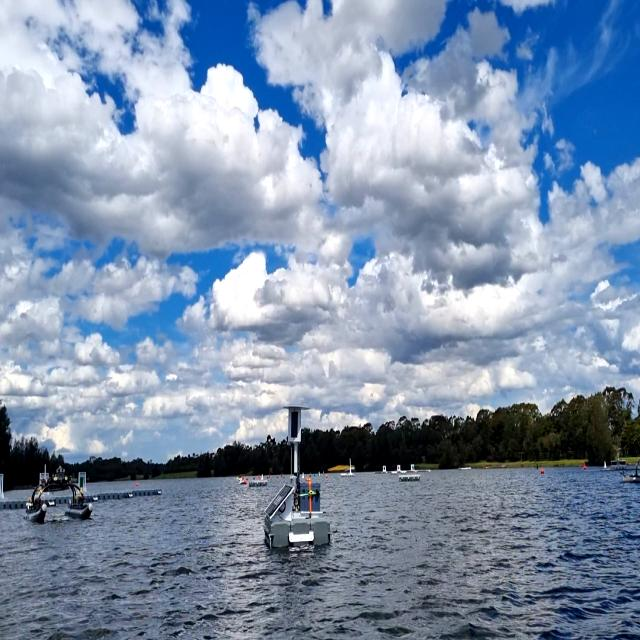led: (290, 409, 300, 441)
